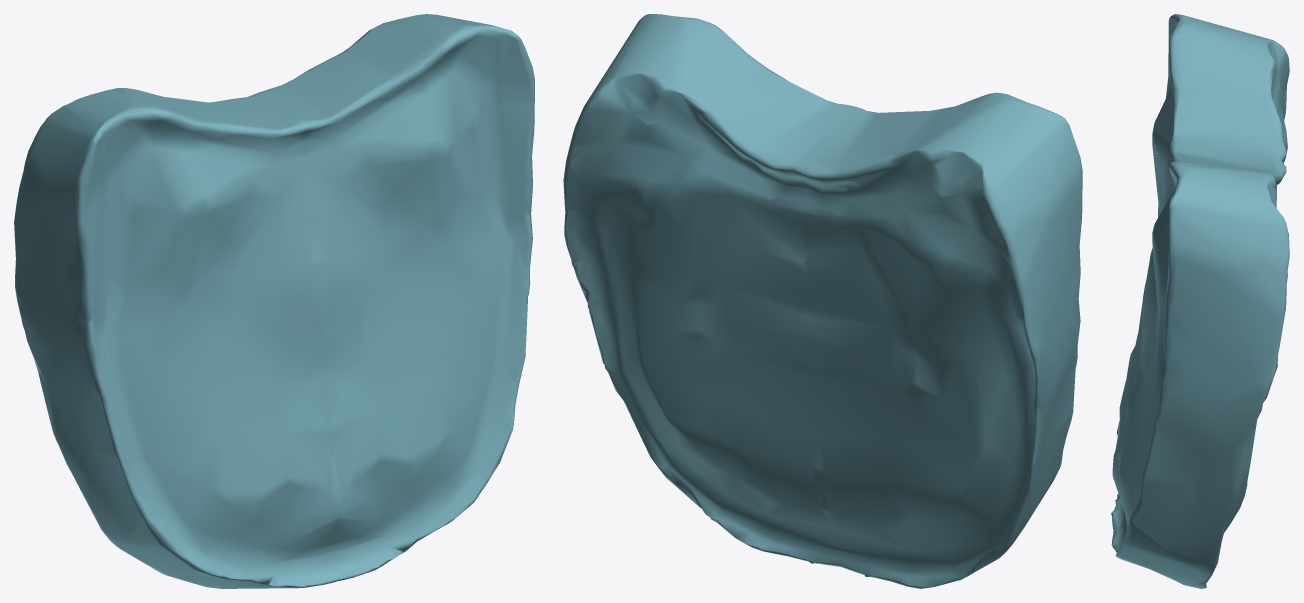
The picture shows the model from 3 angles, left to right: view 1: azimuth 30°, elevation 25°; view 2: azimuth 150°, elevation 25°; view 3: azimuth 270°, elevation 25°; orthographic projection. The views are drawn at different scales.
Parts seen in each view (by area): view 1: 胸7—胸8椎间盘; view 2: 胸7—胸8椎间盘; view 3: 胸7—胸8椎间盘.
Part boxes in pixels (bbox=[...]): 胸7—胸8椎间盘: bbox=[14, 14, 534, 588]; 胸7—胸8椎间盘: bbox=[563, 14, 1082, 588]; 胸7—胸8椎间盘: bbox=[1111, 14, 1289, 588].
Bounding box in the file's own units: 0.0527 × 0.0541 × 0.0191.
